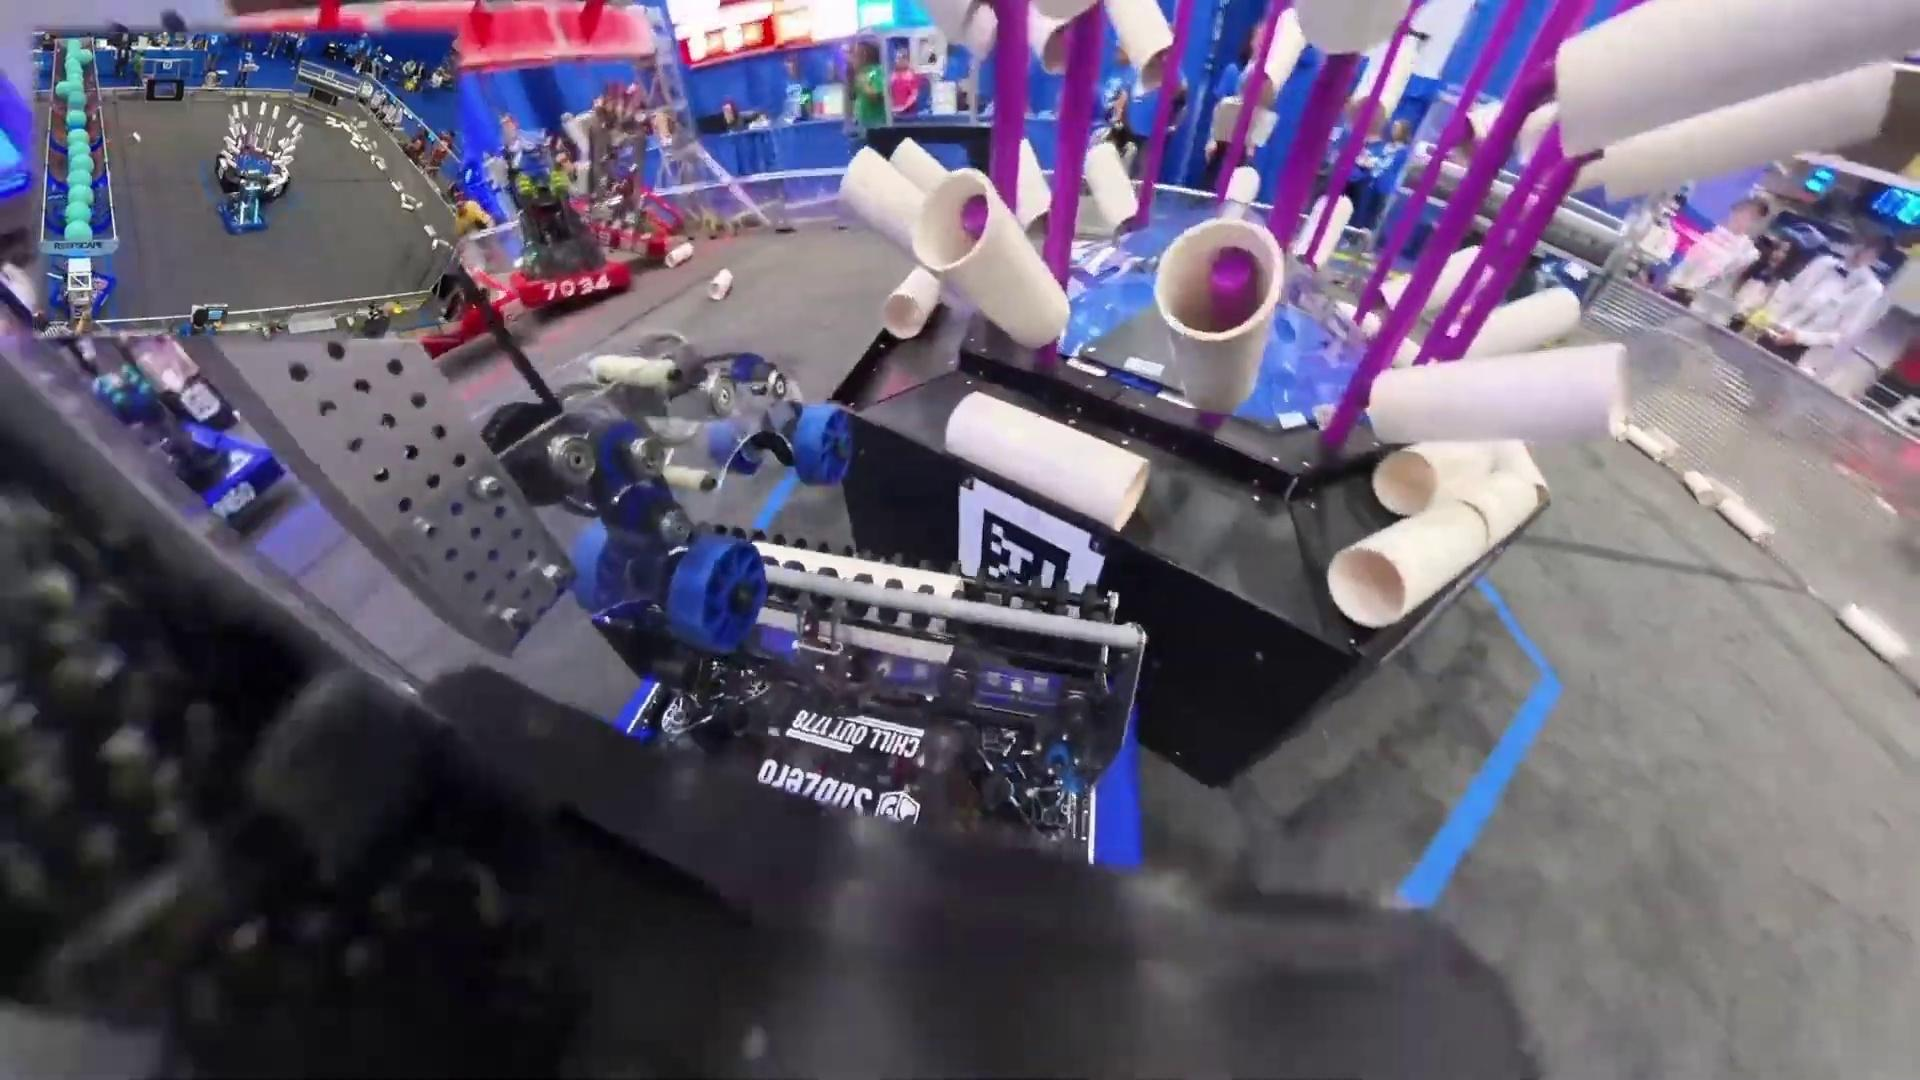robot: (84, 368, 287, 539), (464, 157, 633, 313), (558, 78, 680, 261), (417, 278, 513, 368), (49, 264, 116, 319), (215, 170, 270, 236)
